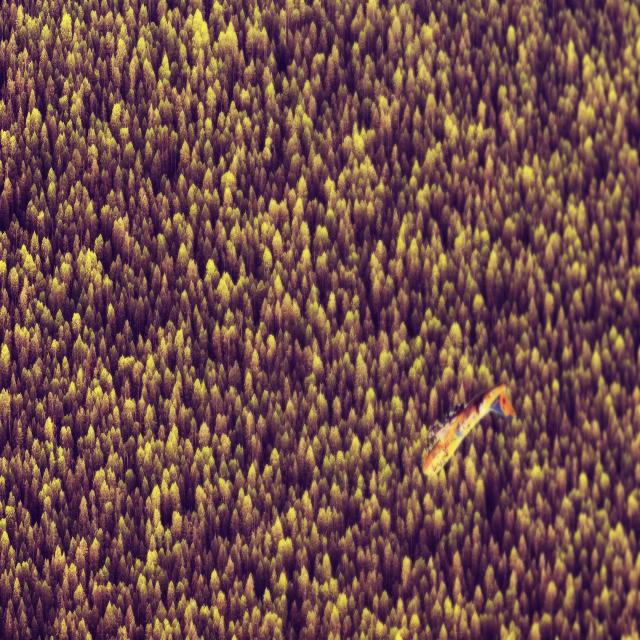airplane: (422, 382, 516, 478)
